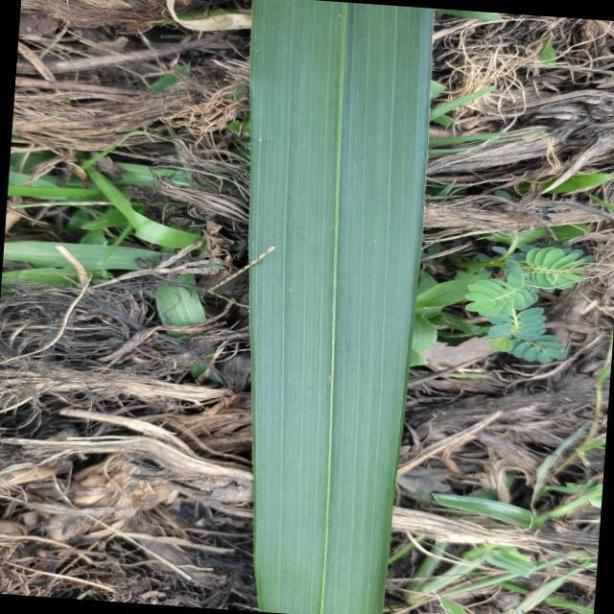Healthy: (246, 0, 437, 614)
